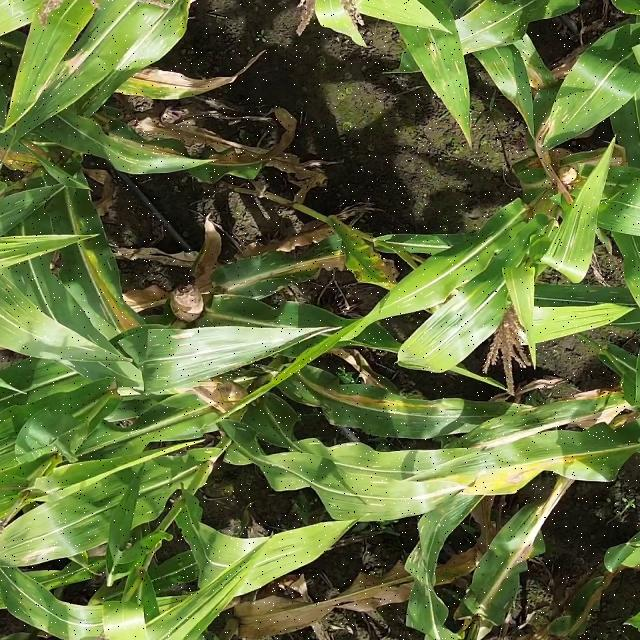gray-leaf-spot: (28, 204, 183, 381), (396, 19, 580, 144), (379, 494, 486, 640)
northern-leaf-blight: (340, 438, 568, 536), (266, 210, 390, 298), (94, 114, 208, 190), (109, 48, 244, 112)
southern-leaf-blight: (290, 362, 479, 434)
